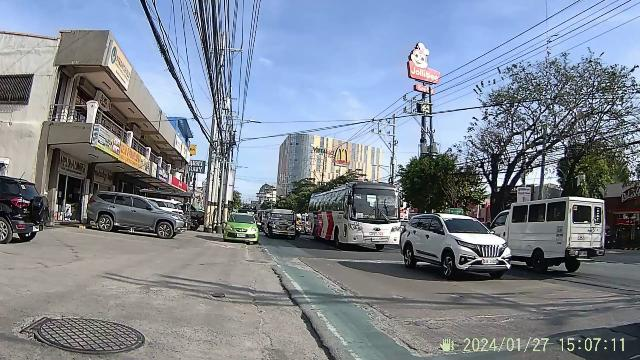car: (403, 212, 511, 274), (222, 209, 262, 245), (260, 208, 298, 240)
utility_post: (402, 41, 446, 158)
